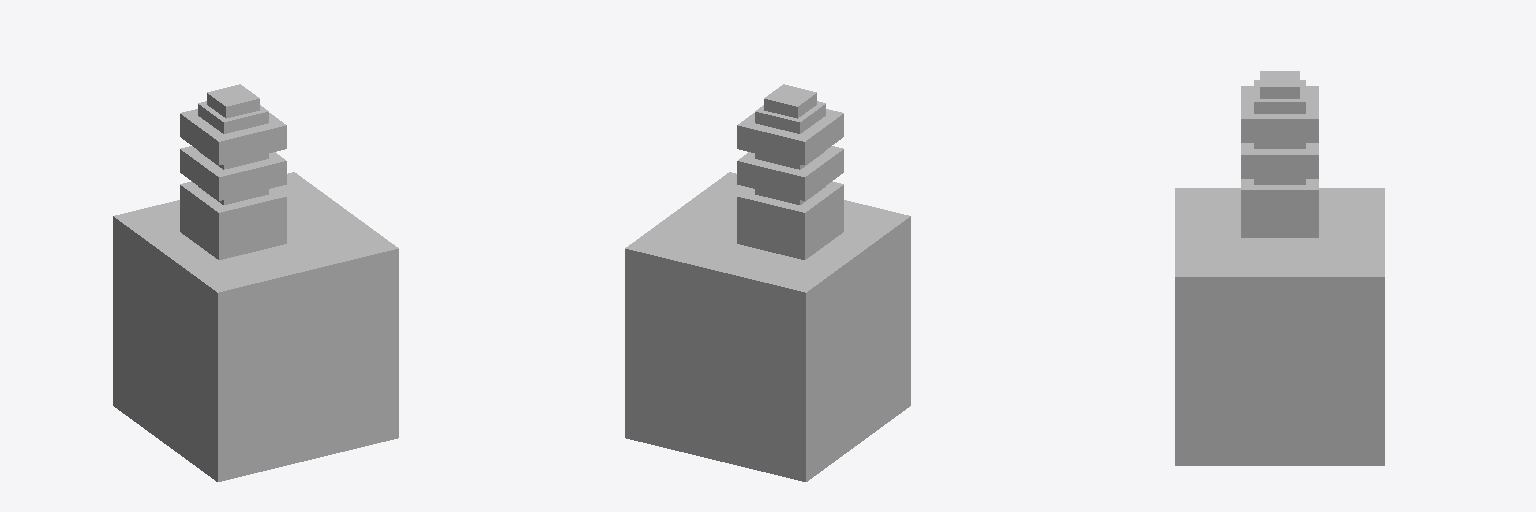
Rendered from autotransformer_part_normal.obj.
3 views of the same model, side by side, from view 1: azimuth 30°, elevation 25°; view 2: azimuth 150°, elevation 25°; view 3: azimuth 270°, elevation 25° (orthographic).
Visible parts, largest first — view 1: cube; view 2: cube; view 3: cube.
Boxes of the visible parts, box(x1,y1,x2,y2) form: cube: box(113, 84, 398, 481); cube: box(625, 84, 910, 481); cube: box(1175, 71, 1384, 465).
Bounding box in the file's own units: 1 × 1.75 × 1.